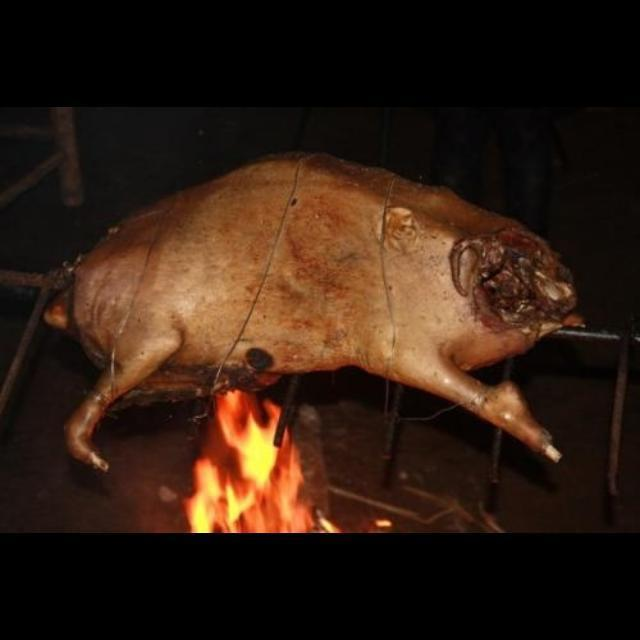Fire: (185, 391, 343, 534)
